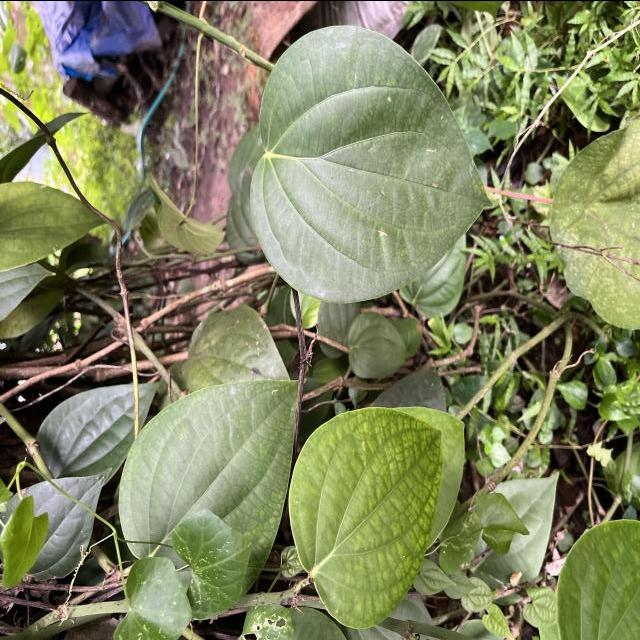Piper nigrum: (248, 22, 494, 306), (287, 402, 445, 630)
